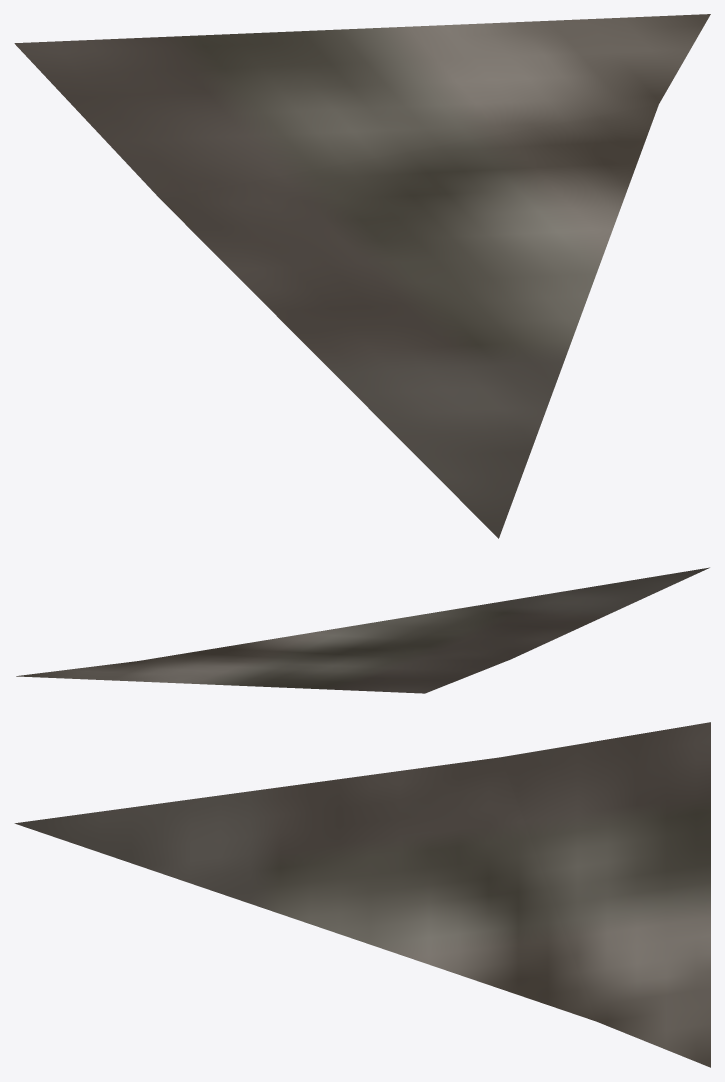
3 renders of one model, top to bottom at view 1: azimuth 30°, elevation 25°; view 2: azimuth 150°, elevation 25°; view 3: azimuth 270°, elevation 25°, orthographic. The views are drawn at different scales.
Size of the model in its own units: 0.0616 by 0.0119 by 0.0743.
1 material, 1 textured.
